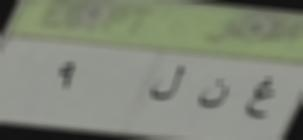9: (52, 56, 80, 92)
ghayn: (244, 70, 275, 127)
laam: (150, 53, 186, 109)
noon: (198, 76, 230, 116)
